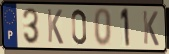0: (92, 7, 113, 49), (71, 8, 88, 46)
1: (119, 7, 131, 49)
3: (22, 7, 40, 46)
K: (46, 7, 65, 46), (142, 9, 160, 47)
